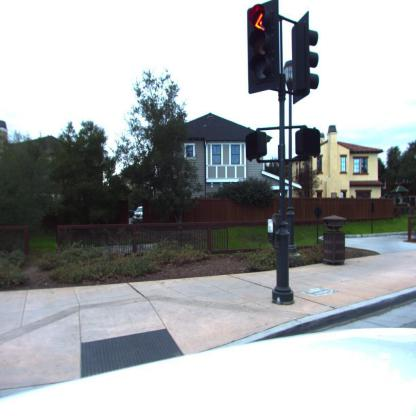traffic light: (246, 3, 282, 96), (295, 25, 320, 103), (296, 127, 322, 157), (246, 133, 270, 159)
